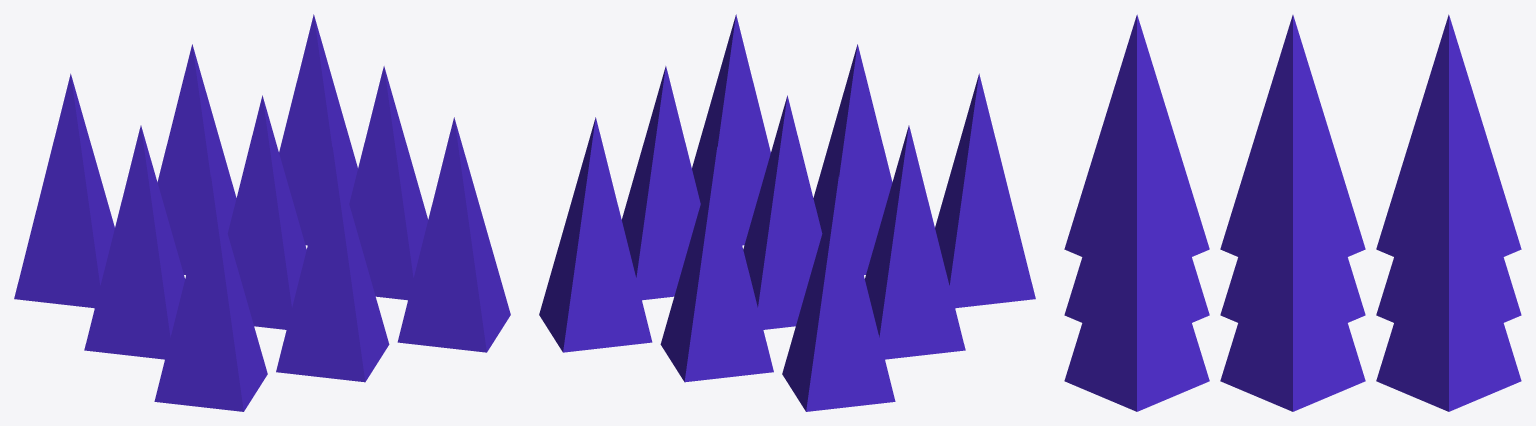
Rendered from spike.glb.
3 renders of one model, left to right at view 1: azimuth 30°, elevation 25°; view 2: azimuth 150°, elevation 25°; view 3: azimuth 270°, elevation 25°, orthographic. The views are drawn at different scales.
Parts seen in each view (by area): view 1: Cone; view 2: Cone; view 3: Cone.
Part boxes in pixels (x1,y1,x2,y2): Cone: (14, 14, 510, 411); Cone: (539, 14, 1035, 411); Cone: (1064, 14, 1521, 411).
Size of the model in its own units: 1.76 by 1 by 1.76.
